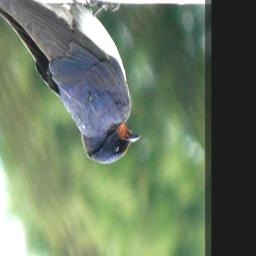Swallow: (0, 0, 141, 165)
